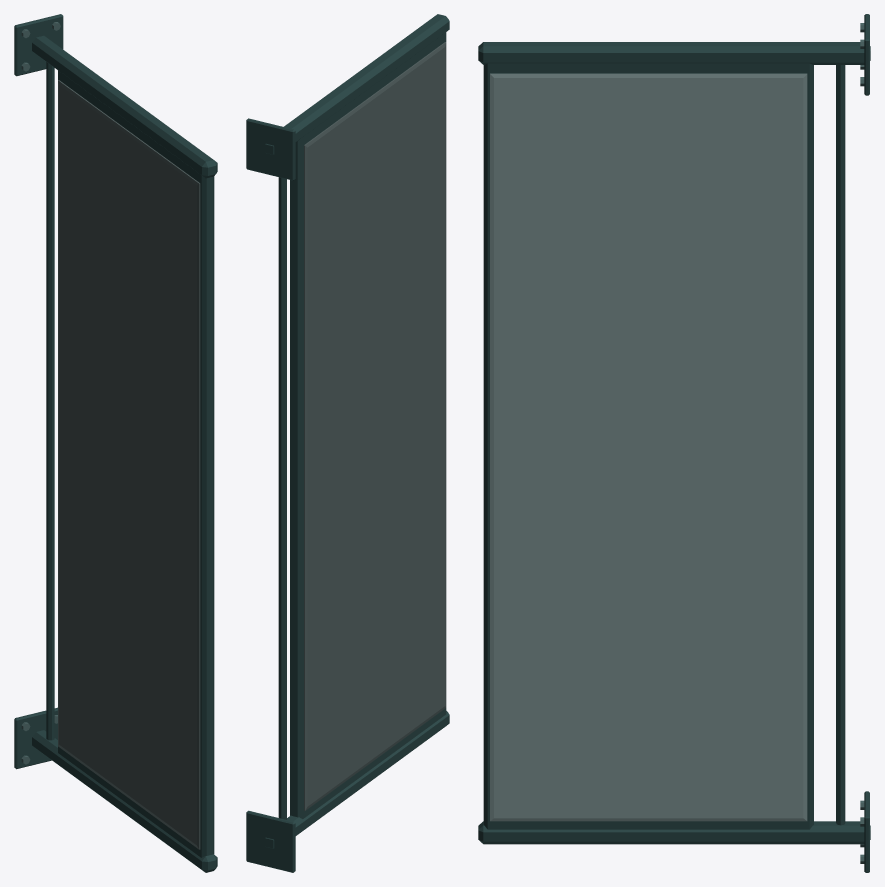
The model's file is signboard thin.fbx.
3 views of the same model, side by side, from view 1: azimuth 30°, elevation 25°; view 2: azimuth 150°, elevation 25°; view 3: azimuth 270°, elevation 25° (orthographic). The views are drawn at different scales.
Visible parts, largest first — view 1: pCube8; view 2: pCube8; view 3: pCube8.
Part boxes in pixels (x1,y1,x2,y2): pCube8: (14, 14, 217, 872); pCube8: (246, 14, 449, 872); pCube8: (478, 14, 870, 872).
Size of the model in its own units: 0.1493 by 2.21 by 0.9416.
